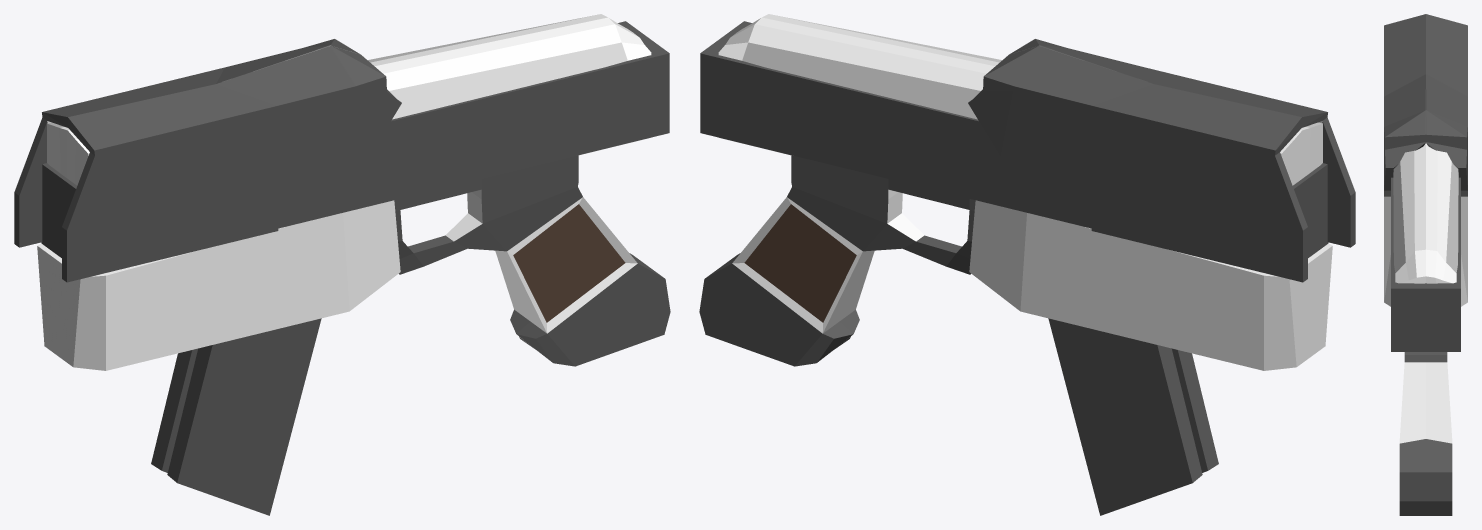
File: MegusMaximus.fbx
3 views of the same model, side by side, from view 1: azimuth 30°, elevation 25°; view 2: azimuth 150°, elevation 25°; view 3: azimuth 270°, elevation 25° (orthographic). The views are drawn at different scales.
Parts seen in each view (by area): view 1: Barrel; view 2: Barrel; view 3: Barrel.
Part boxes in pixels (bbox=[...]): Barrel: bbox=[14, 14, 670, 515]; Barrel: bbox=[699, 14, 1355, 515]; Barrel: bbox=[1384, 14, 1467, 515].
Size of the model in its own units: 12 by 55.94 by 80.84.
